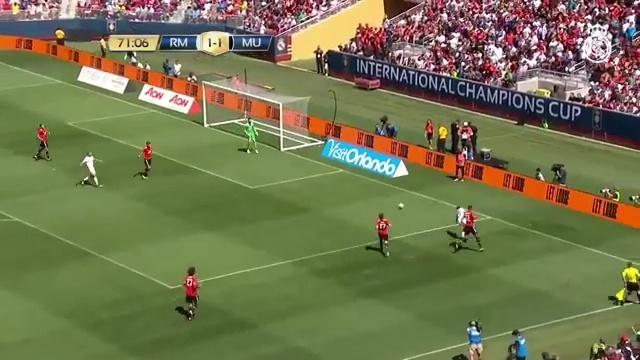football: (398, 203, 404, 210)
player: (450, 205, 483, 251), (76, 152, 101, 186), (183, 267, 199, 320), (134, 141, 152, 179), (375, 213, 390, 257), (33, 124, 50, 160), (244, 118, 258, 153), (455, 206, 464, 228)
referee: (622, 262, 639, 302)
